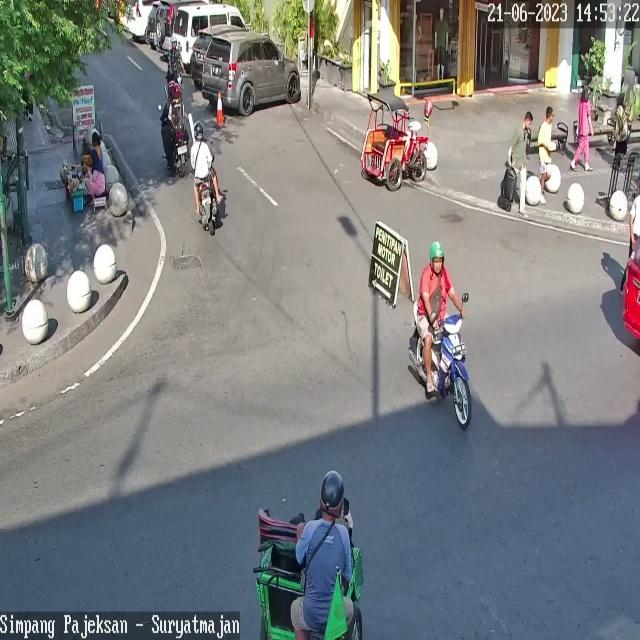bus: (409, 299, 473, 429), (195, 178, 221, 235), (171, 124, 192, 176)
motorcycle: (203, 31, 300, 115), (172, 4, 247, 64), (190, 28, 213, 83), (154, 0, 175, 54), (124, 0, 151, 35)
